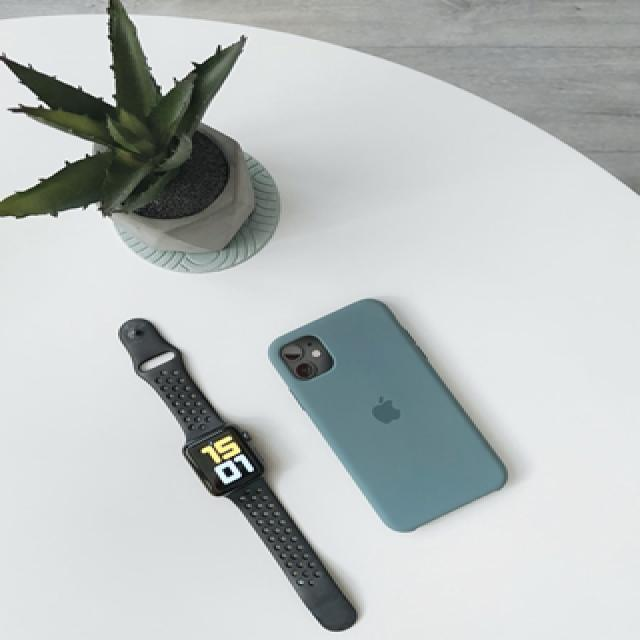cellphone: (266, 296, 508, 533)
